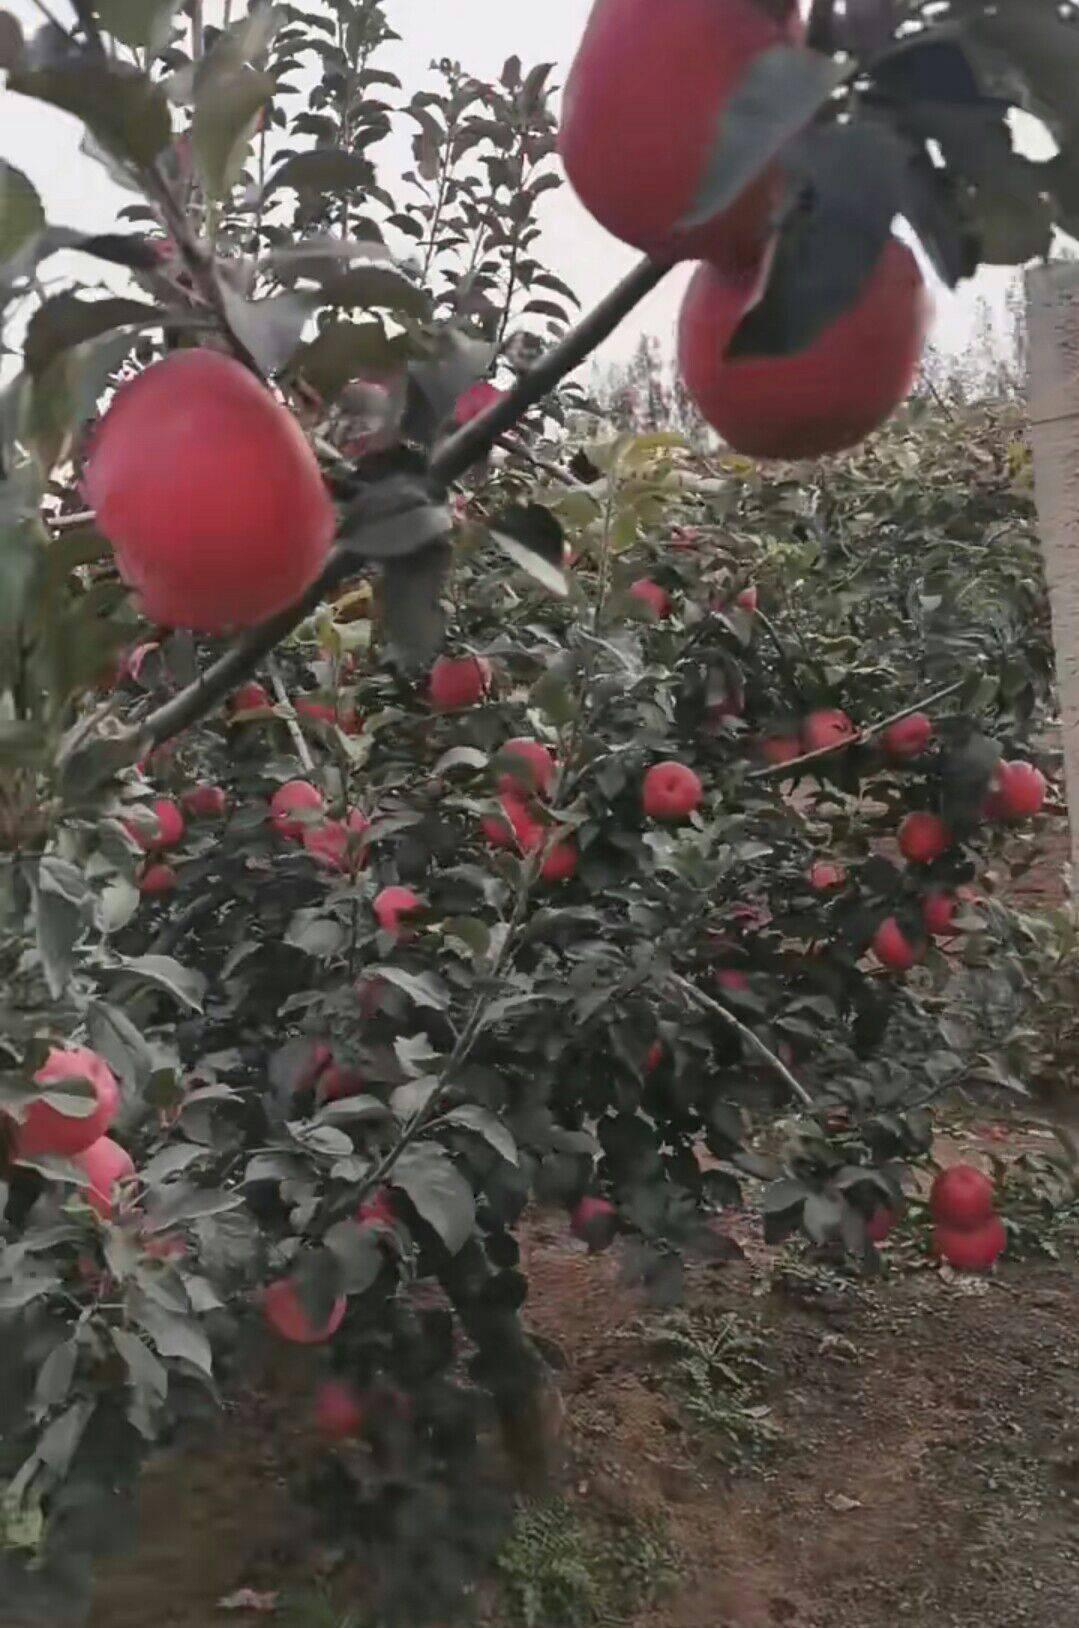apple: (81, 349, 334, 636), (560, 1, 804, 265), (679, 237, 936, 462), (926, 1163, 991, 1229), (424, 647, 491, 710), (931, 1219, 1009, 1269), (644, 760, 701, 822)
